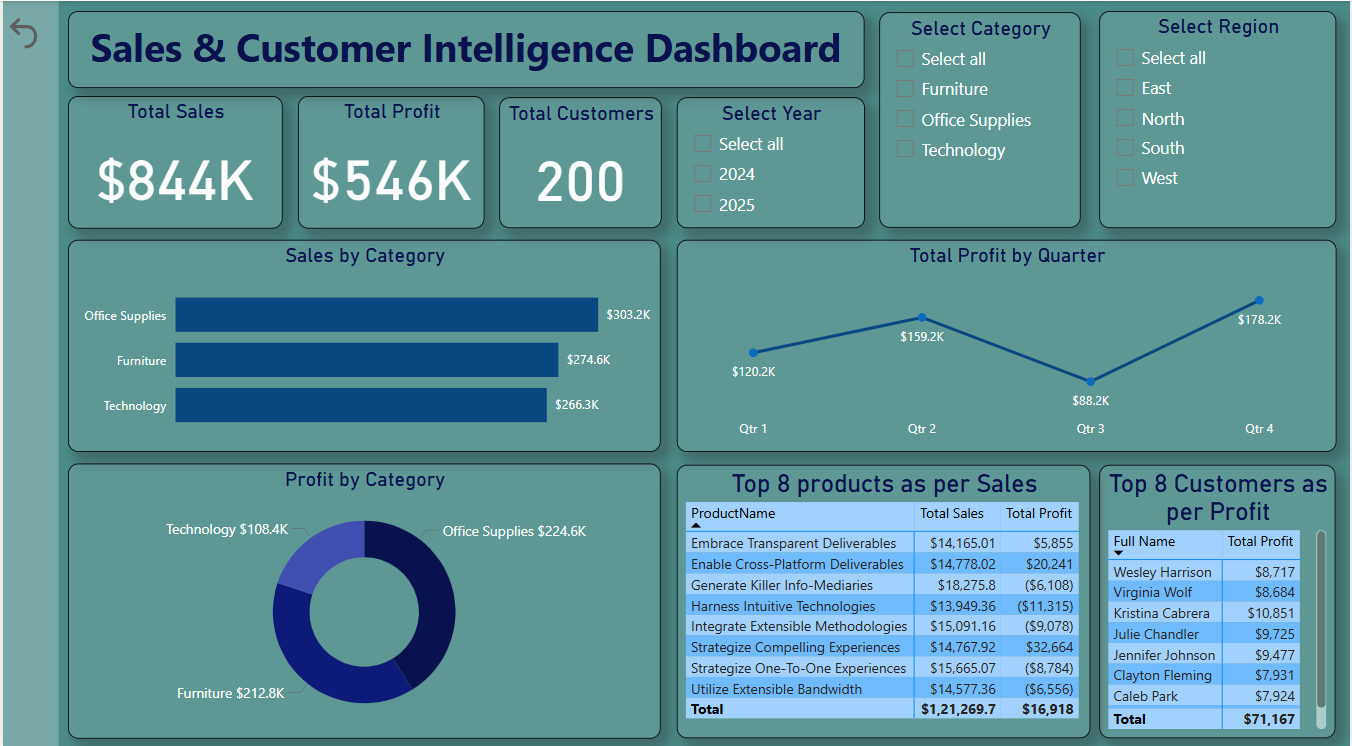

The page's visual inventory and layout, read from the dashboard file:
{"tool":"powerbi","page":{"name":"Overall Dashboard","canvas":[1300,720],"ordinal":0},"visuals":[{"type":"textbox","box":[0,0,53.6,720.6],"z":0},{"type":"textbox","box":[63.3,9.7,752.2,74.3],"z":1000},{"type":"card","title":"Total Sales","fields":{"Values":["Measures Table.Total Sales"]},"box":[63.3,91.3,206.9,127.8],"z":2000},{"type":"card","title":"Total Profit","fields":{"Values":["Measures Table.Total Profit"]},"box":[284.8,91.3,180.1,127.8],"z":3000},{"type":"card","title":"Total Customers","fields":{"Values":["Customer_Dim.CustomerID"]},"box":[478.4,92.5,157,126.6],"z":4000},{"type":"slicer","title":"Select Year","fields":{"Values":["Date_Dim.Year"]},"box":[650,92.5,181.4,126.6],"z":5000},{"type":"slicer","title":"Select Region","fields":{"Values":["Region_Dim.RegionName"]},"box":[1057.8,9.7,228.8,209.4],"z":6000},{"type":"slicer","title":"Select Category","fields":{"Values":["Product_Dim.Category"]},"box":[846,11,194.8,208.1],"z":7000},{"type":"barChart","title":"Sales by Category","fields":{"Category":["Product_Dim.Category"],"Y":["Measures Table.Total Sales"]},"box":[63.3,230.1,572.1,204.5],"z":8000},{"type":"donutChart","title":"Profit by Category","fields":{"Y":["Measures Table.Total Profit"],"Category":["Product_Dim.Category"]},"box":[63.3,446.7,572.1,265.4],"z":9000},{"type":"lineChart","fields":{"Category":["Date_Dim.Date.Variation.Date Hierarchy.Year","Date_Dim.Date.Variation.Date Hierarchy.Quarter","Date_Dim.Date.Variation.Date Hierarchy.Month"],"Y":["Measures Table.Total Profit"]},"box":[650,230.1,636.6,204.5],"z":10000},{"type":"pivotTable","title":"Top 8 products as per Sales","fields":{"Rows":["Product_Dim.ProductName"],"Values":["Measures Table.Total Sales","Measures Table.Total Profit"]},"box":[650.3,447.6,399.3,264.2],"z":11000},{"type":"pivotTable","title":"Top 8 Customers as per Profit","fields":{"Rows":["Customer_Dim.Full Name"],"Values":["Measures Table.Total Profit"]},"box":[1058,447.6,228,264.2],"z":12000},{"type":"actionButton","box":[0,10.9,53.1,39.8],"z":13000}]}

Visuals, with their boxes in screenshot pixels (x1, y1, x2, y2), scaled from the page's 1300x720 canvas onto the 1352x746 screenshot:
textbox: x1=0 y1=0 x2=56 y2=745
textbox: x1=66 y1=10 x2=848 y2=87
"Total Sales" card: x1=66 y1=95 x2=281 y2=227
"Total Profit" card: x1=296 y1=95 x2=483 y2=227
"Total Customers" card: x1=498 y1=96 x2=661 y2=227
"Select Year" slicer: x1=676 y1=96 x2=865 y2=227
"Select Region" slicer: x1=1100 y1=10 x2=1338 y2=227
"Select Category" slicer: x1=880 y1=11 x2=1082 y2=227
"Sales by Category" barChart: x1=66 y1=238 x2=661 y2=450
"Profit by Category" donutChart: x1=66 y1=463 x2=661 y2=738
lineChart - Date_Dim.Date.Variation.Date Hierarchy.Year x Date_Dim.Date.Variation.Date Hierarchy.Quarter: x1=676 y1=238 x2=1338 y2=450
"Top 8 products as per Sales" pivotTable: x1=676 y1=464 x2=1092 y2=738
"Top 8 Customers as per Profit" pivotTable: x1=1100 y1=464 x2=1337 y2=738
actionButton: x1=0 y1=11 x2=55 y2=53
